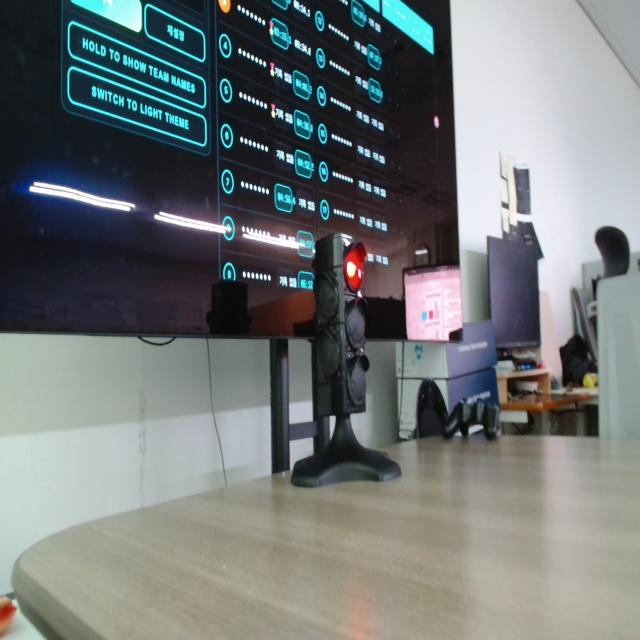red_light: (345, 243, 366, 292)
